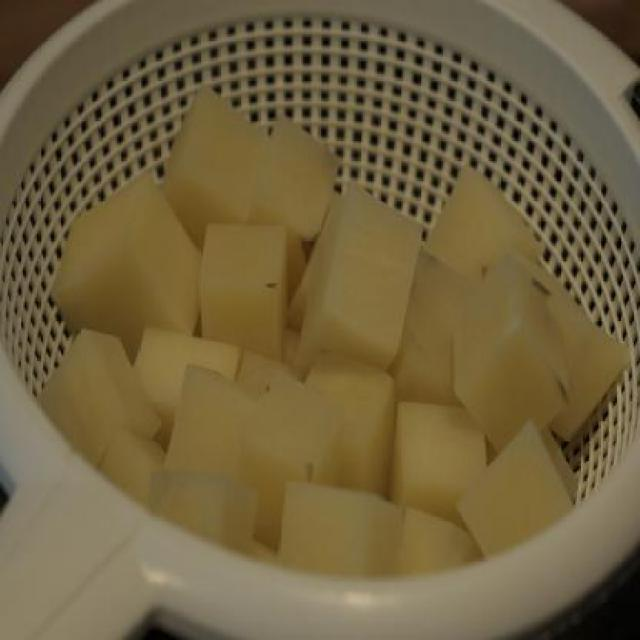Potato: (35, 83, 632, 579)
